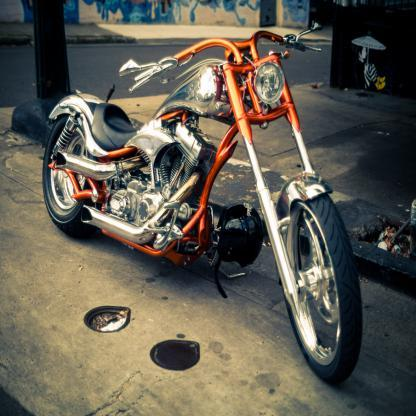motorcycle: (32, 17, 388, 353)
